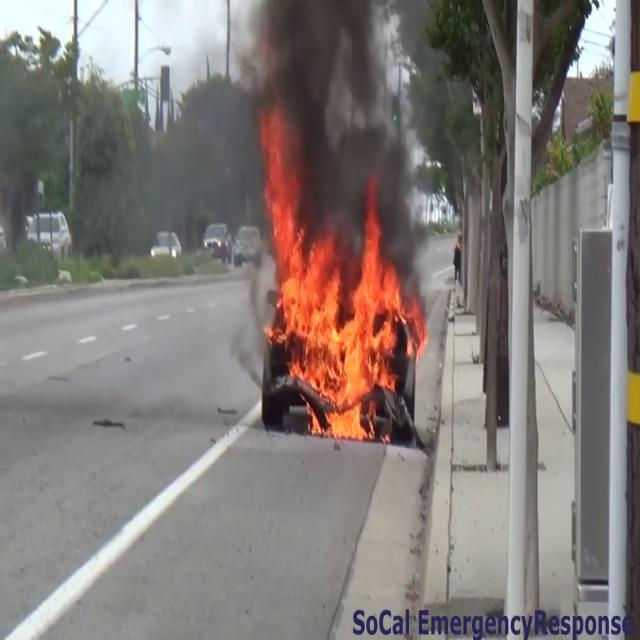Fire: (261, 150, 415, 438)
Smoke: (244, 0, 421, 248)
